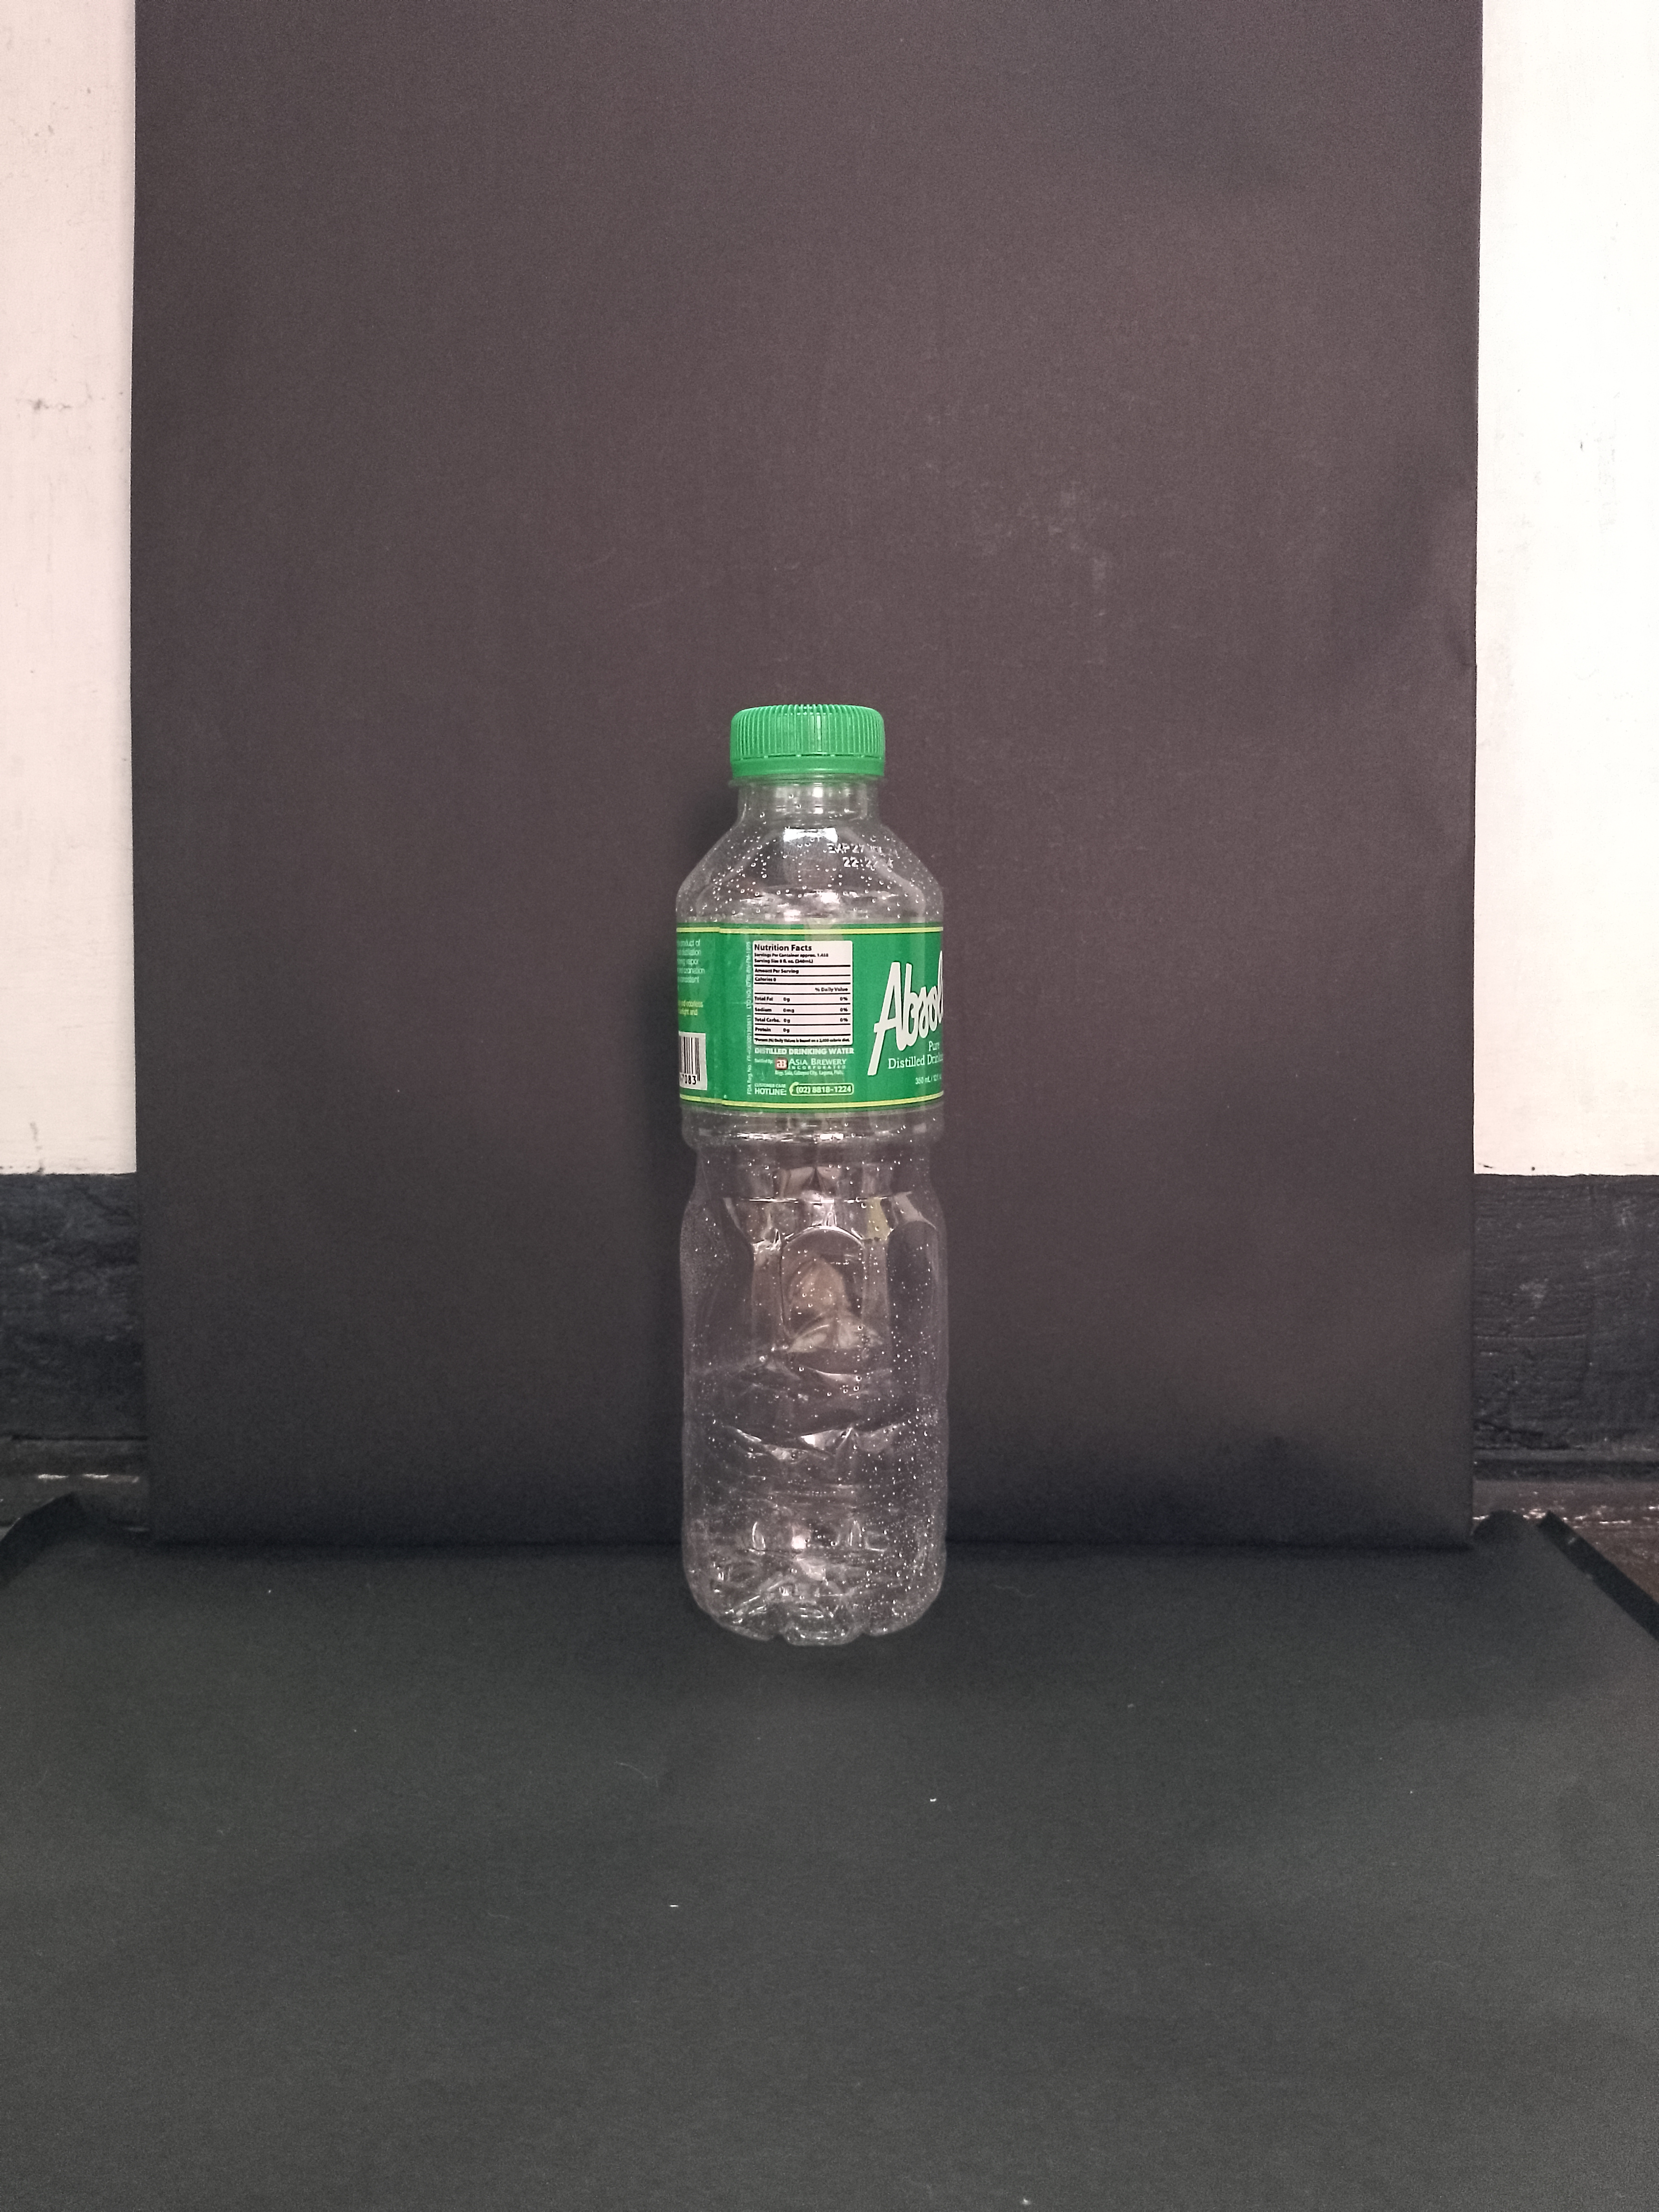plastic bottle: (664, 693, 969, 1653)
